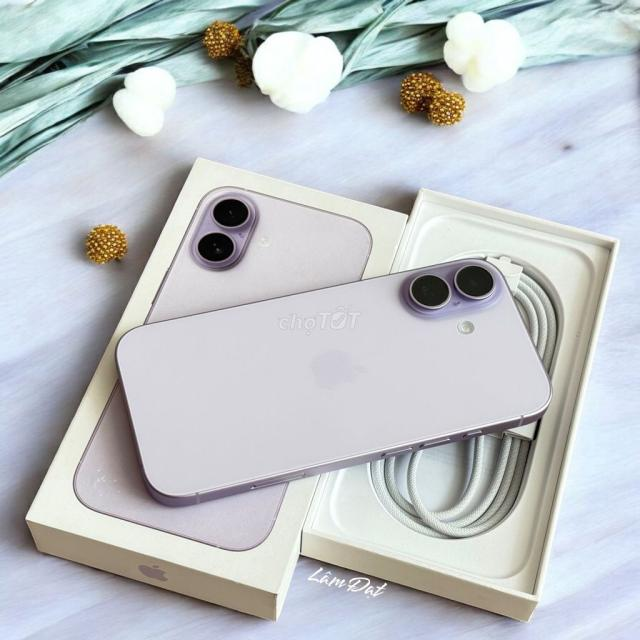gen_17: (102, 250, 566, 514)
